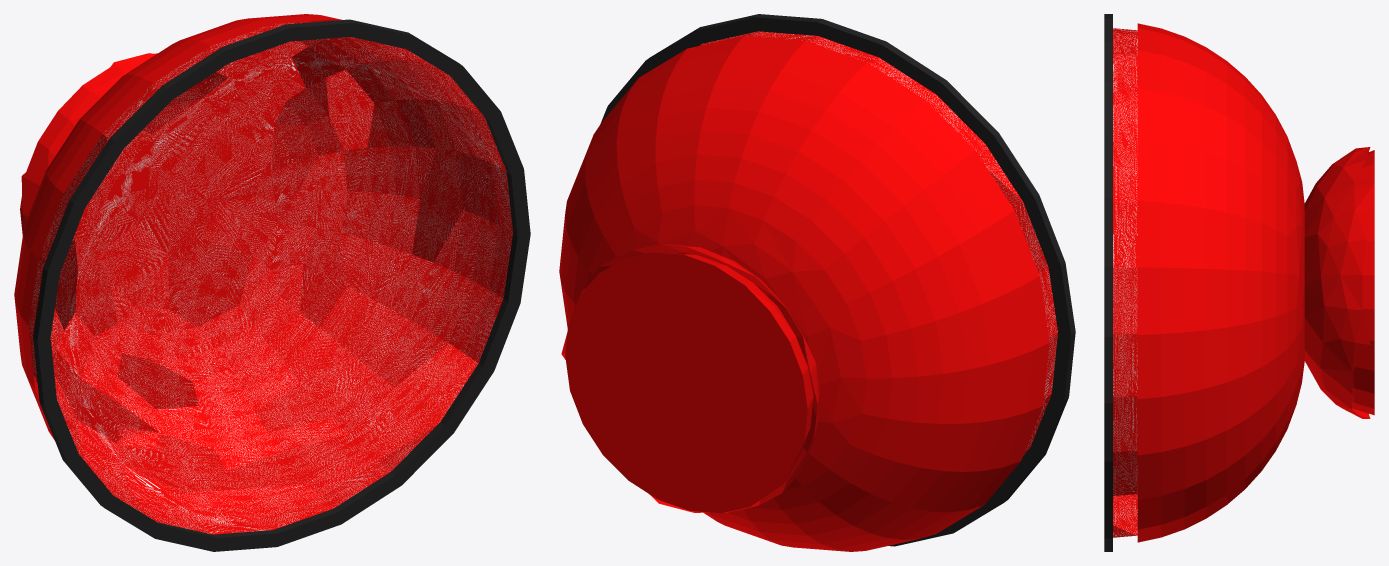
Rendered from model_align.obj.
3 views of the same model, side by side, from view 1: azimuth 30°, elevation 25°; view 2: azimuth 150°, elevation 25°; view 3: azimuth 270°, elevation 25° (orthographic). The views are drawn at different scales.
Bounding box in the file's own units: 0.1446 × 0.1446 × 0.0725.
